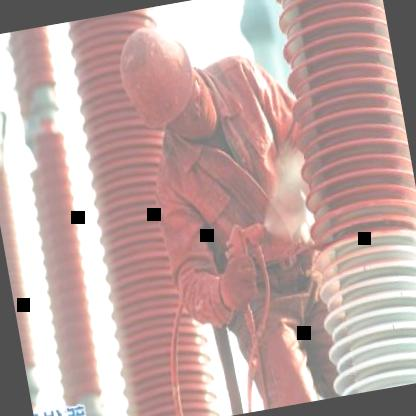helmet: (108, 3, 224, 154)
